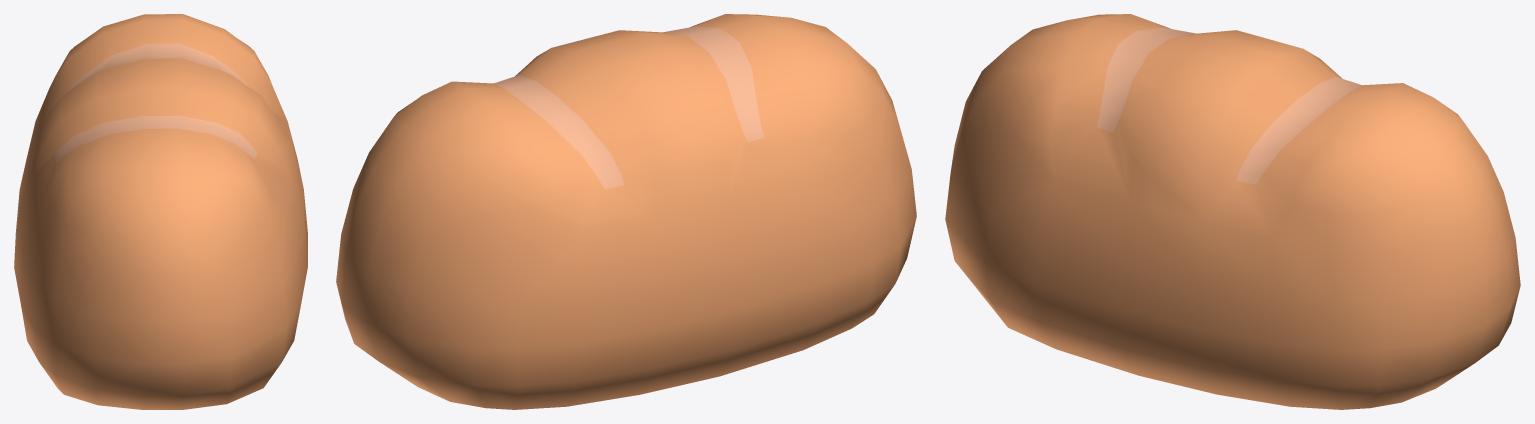
File: candy_assets48.fbx
3 views of the same model, side by side, from view 1: azimuth 30°, elevation 25°; view 2: azimuth 150°, elevation 25°; view 3: azimuth 270°, elevation 25° (orthographic). The views are drawn at different scales.
Visible parts, largest first — view 1: candy_assets48; view 2: candy_assets48; view 3: candy_assets48.
Part boxes in pixels (<box>): candy_assets48: <box>14,14,307,409</box>; candy_assets48: <box>336,14,916,409</box>; candy_assets48: <box>945,14,1520,409</box>.
Size of the model in its own units: 457 by 326 by 573.
1 material, 1 textured.
